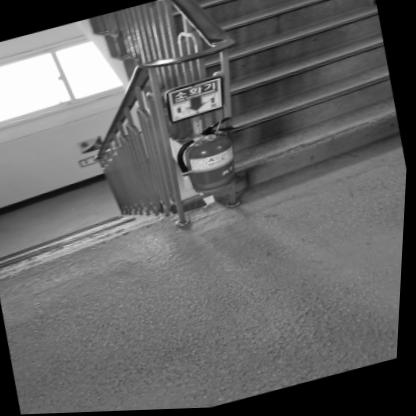FE: (169, 116, 251, 203)
